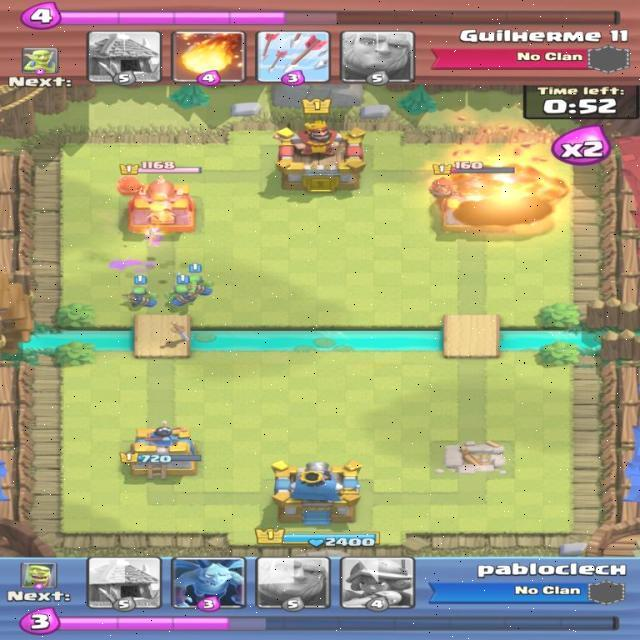ECannoneerTower: (123, 181, 201, 234), (441, 186, 519, 229)
EKingTower: (270, 125, 369, 195)
OSpearGoblin: (131, 281, 154, 310), (183, 276, 211, 298), (169, 287, 191, 307)
OwnKingTower: (271, 463, 372, 546)
OwnPrincessTower: (134, 433, 194, 475)
TowerDown: (431, 441, 519, 481)
